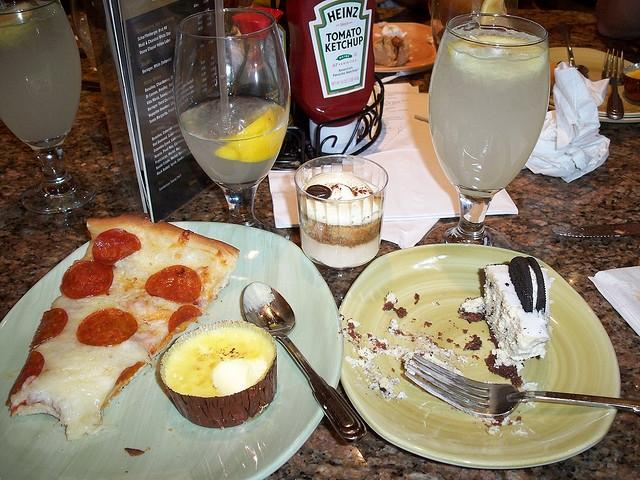lemon: (447, 35, 548, 68), (215, 122, 288, 162), (219, 108, 278, 140), (1, 1, 32, 26)
